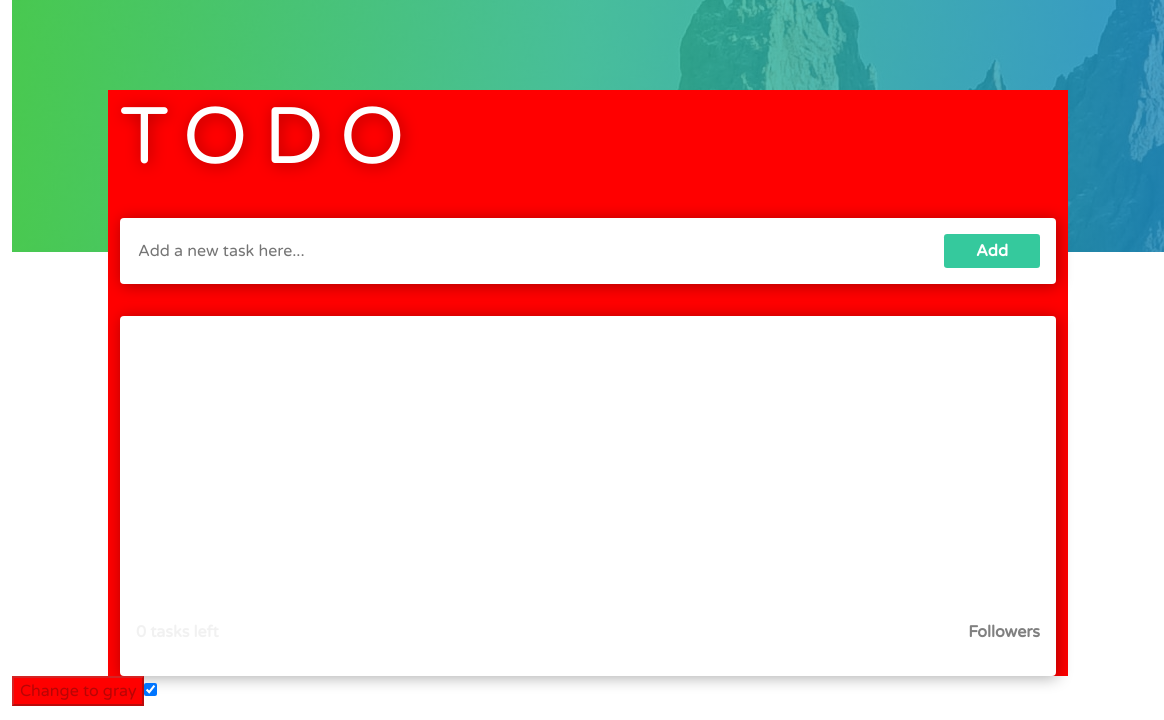
Test case: Checkbox disables button on first click and enabled on second click
The image size is (1164, 720).
Check: the button "Change to gray" is disabled, box [12,676,144,706]
Click the checkbox. click: {"x": 151, "y": 689}
box: [144,683,158,696]
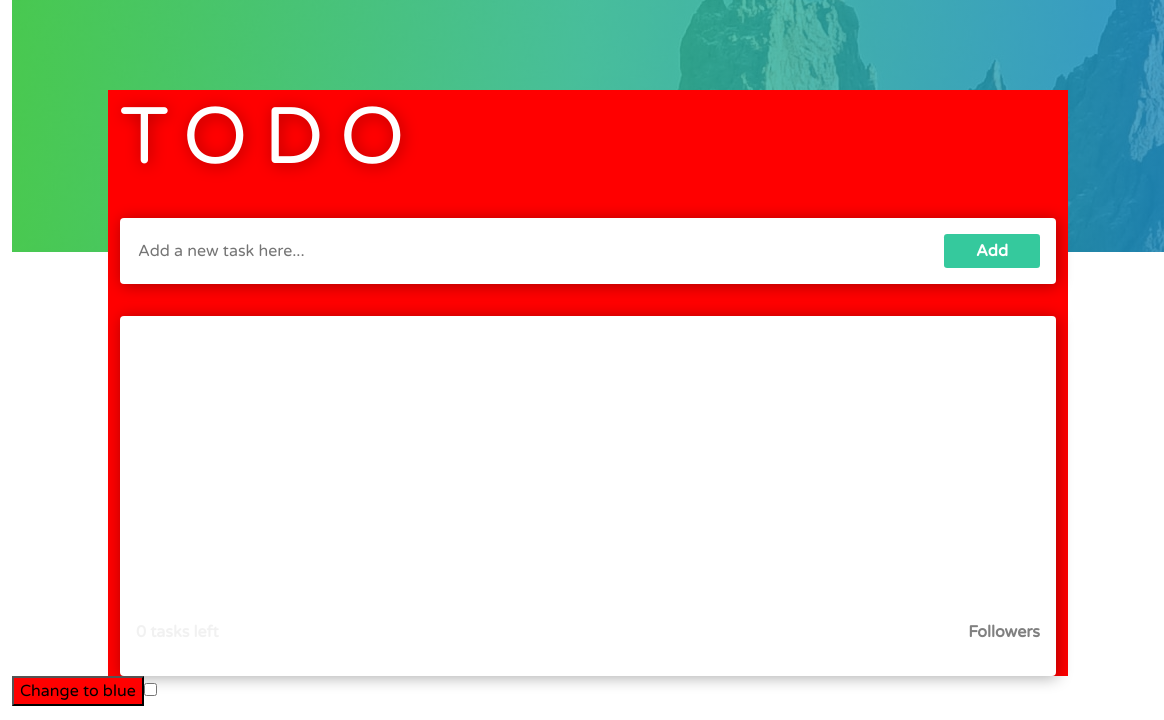
Check: the button named "Change to gray" is enabled
Click the button named "Change to gray". click: {"x": 78, "y": 691}
box: [12,676,144,706]
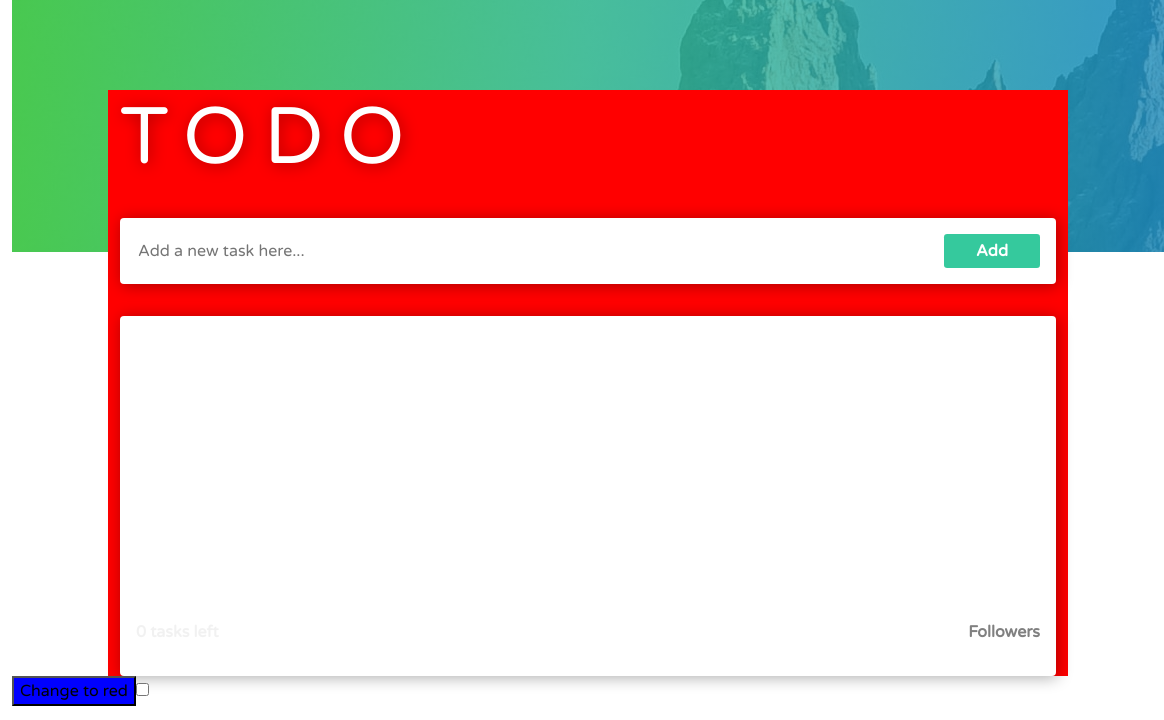
Check: the button named "Change to gray" reads "Change to red"
Click the button named "Change to gray". click: {"x": 74, "y": 691}
box: [12,676,136,706]
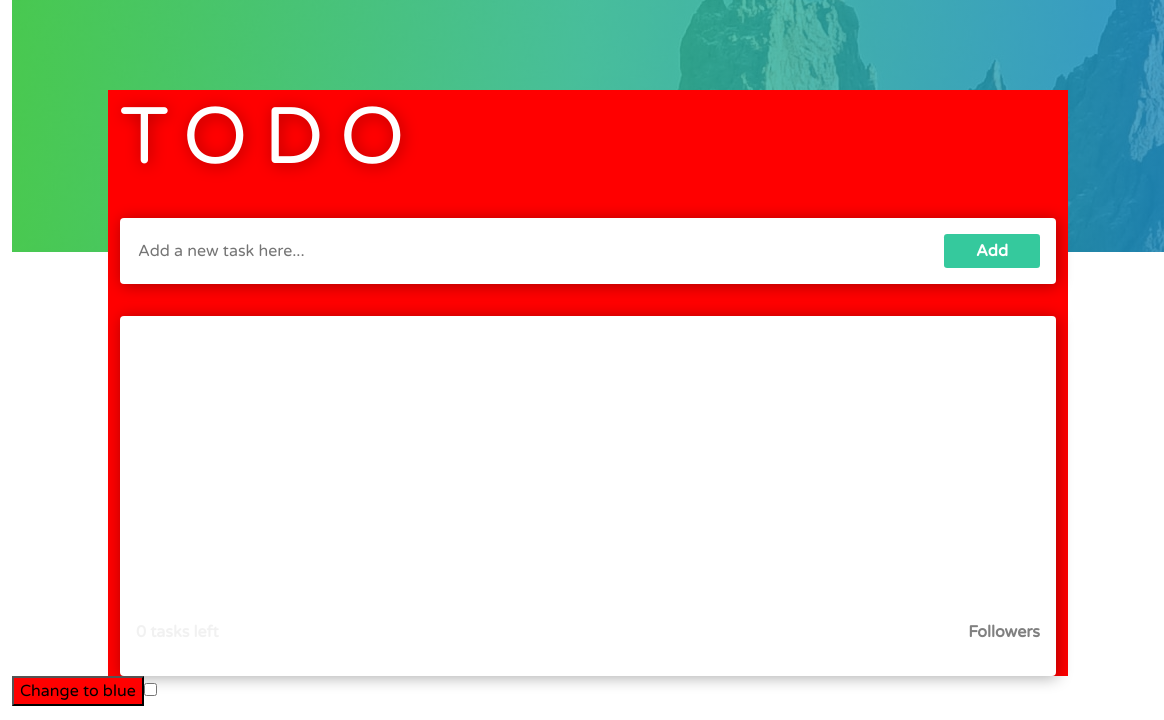
Check: the button named "Change to gray" reads "Change to blue", box [12,676,144,706]
